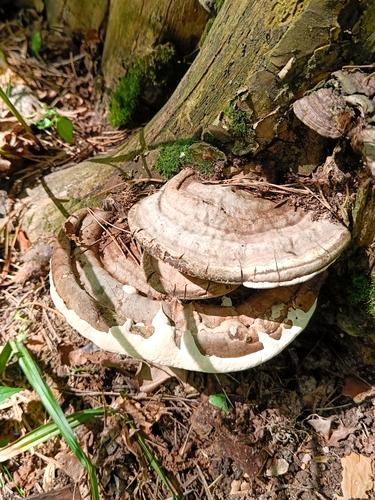Ganoderma - Fruit Body: (23, 151, 356, 391)
